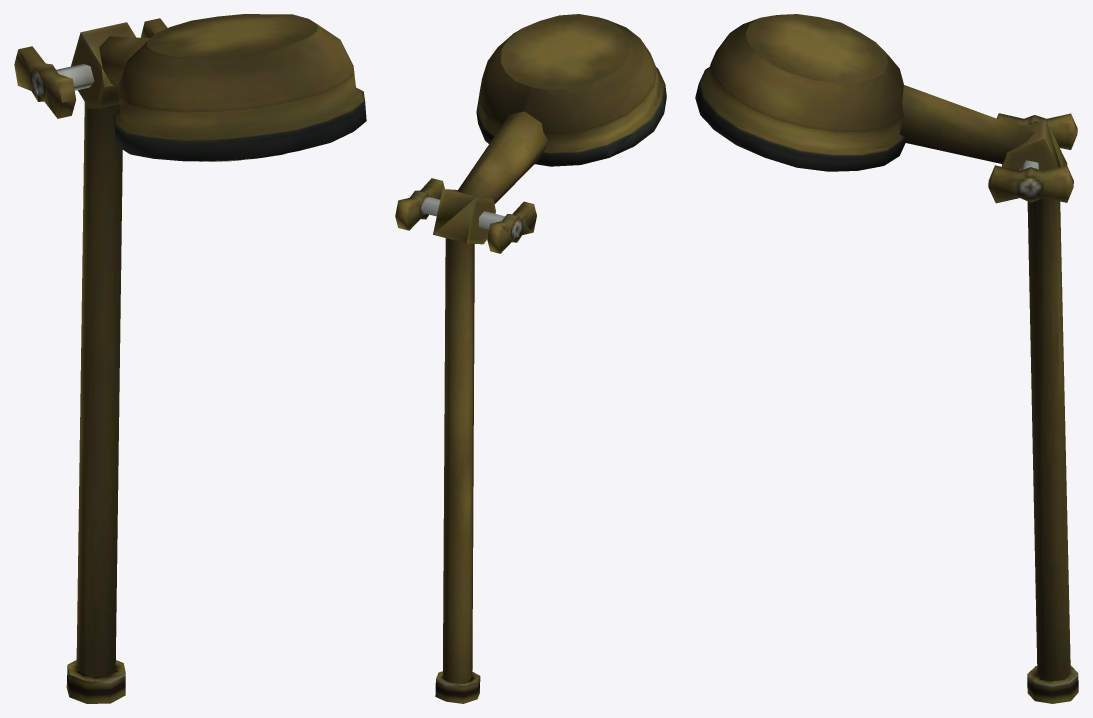
File: shower_head.obj
3 views of the same model, side by side, from view 1: azimuth 30°, elevation 25°; view 2: azimuth 150°, elevation 25°; view 3: azimuth 270°, elevation 25° (orthographic). The views are drawn at different scales.
Visible parts, largest first — view 1: Model001_4_Material3184_1.0_0.0_0.0; view 2: Model001_4_Material3184_1.0_0.0_0.0; view 3: Model001_4_Material3184_1.0_0.0_0.0.
Boxes of the visible parts, x1,y1,x2,y2 form: Model001_4_Material3184_1.0_0.0_0.0: (14, 14, 366, 703); Model001_4_Material3184_1.0_0.0_0.0: (395, 14, 666, 703); Model001_4_Material3184_1.0_0.0_0.0: (695, 14, 1078, 703).
Bounding box in the file's own units: 0.178 × 0.5982 × 0.3161.
